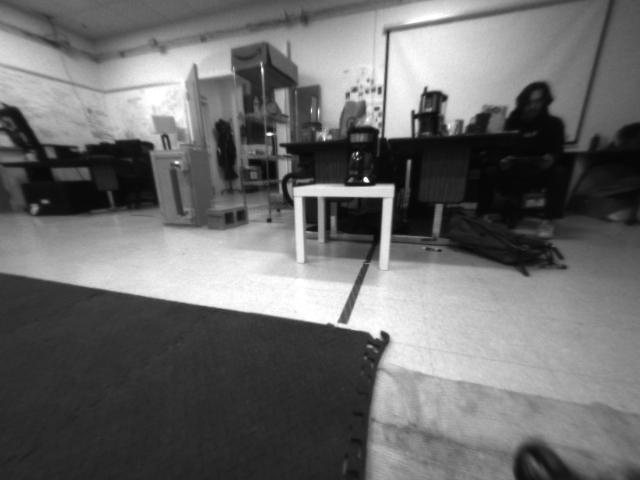coffee_pot: (342, 124, 382, 189)
